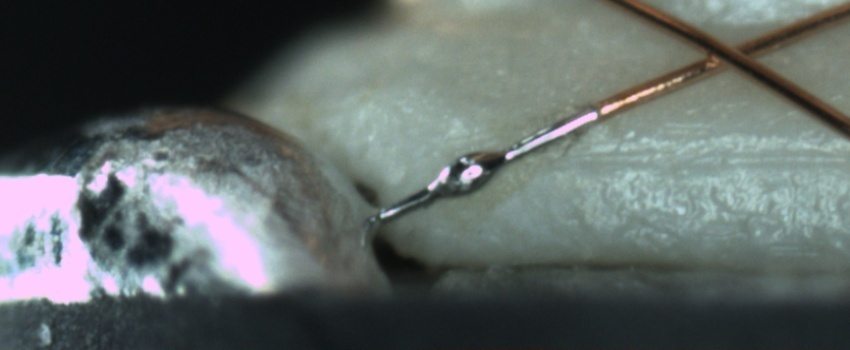CL: (682, 23, 777, 79)
DL: (536, 127, 849, 189)
TB: (433, 146, 503, 204)
TS: (378, 106, 601, 221)
TTCW: (373, 78, 654, 223)
